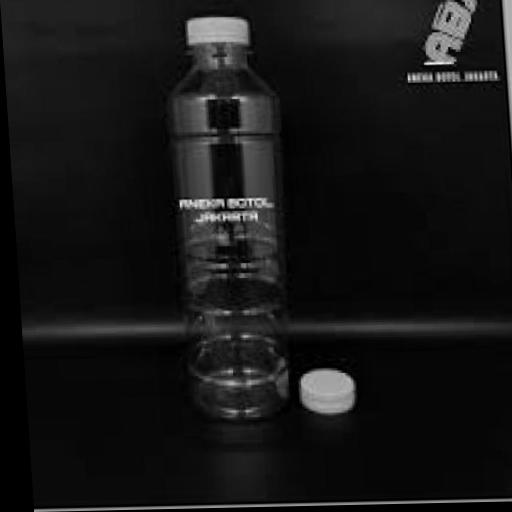ba: (147, 0, 304, 434)
